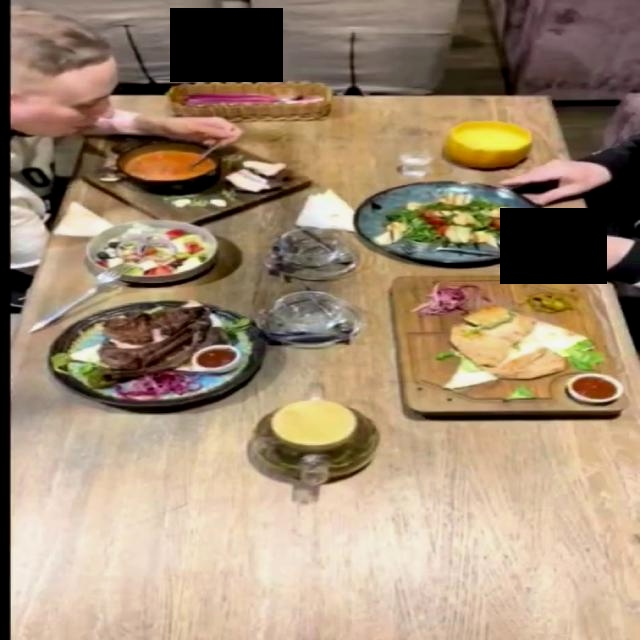meat: (384, 274, 628, 417), (47, 299, 268, 406)
salad: (357, 180, 552, 264), (82, 218, 218, 283)
soup: (76, 134, 311, 226), (444, 120, 533, 167)
tea: (224, 376, 393, 517)
